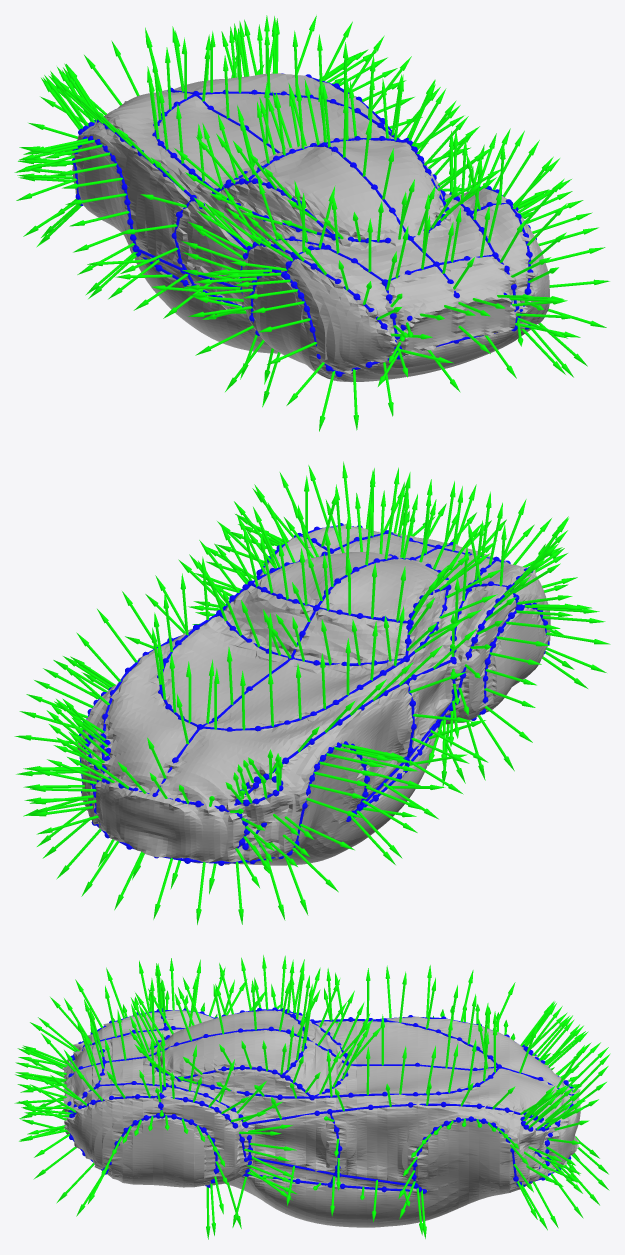
Rendered from ils_roadster.gltf.
The picture shows the model from 3 angles, top to bottom: view 1: azimuth 30°, elevation 25°; view 2: azimuth 150°, elevation 25°; view 3: azimuth 270°, elevation 25°; orthographic projection. The views are drawn at different scales.
Bounding box in the file's own units: 0.5898 × 0.449 × 1.05.
